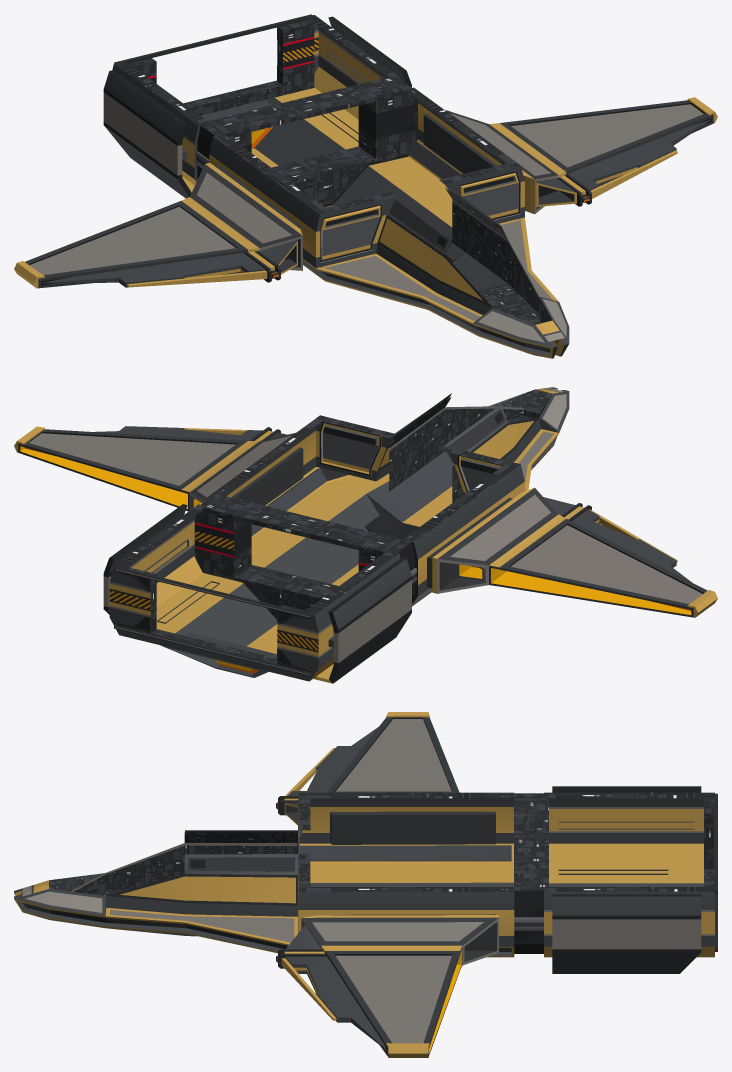
Rendered from ship_01_body.FBX.
The picture shows the model from 3 angles, top to bottom: view 1: azimuth 30°, elevation 25°; view 2: azimuth 150°, elevation 25°; view 3: azimuth 270°, elevation 25°; orthographic projection.
Parts seen in each view (by area): view 1: ship_01_body; view 2: ship_01_body; view 3: ship_01_body.
Boxes of the visible parts, x1,y1,x2,y2 form: ship_01_body: [14, 14, 717, 358]; ship_01_body: [14, 387, 717, 683]; ship_01_body: [14, 712, 717, 1057].
Bounding box in the file's own units: 48.22 × 6.64 × 42.55.
Materials: 1 (1 with a texture image).
